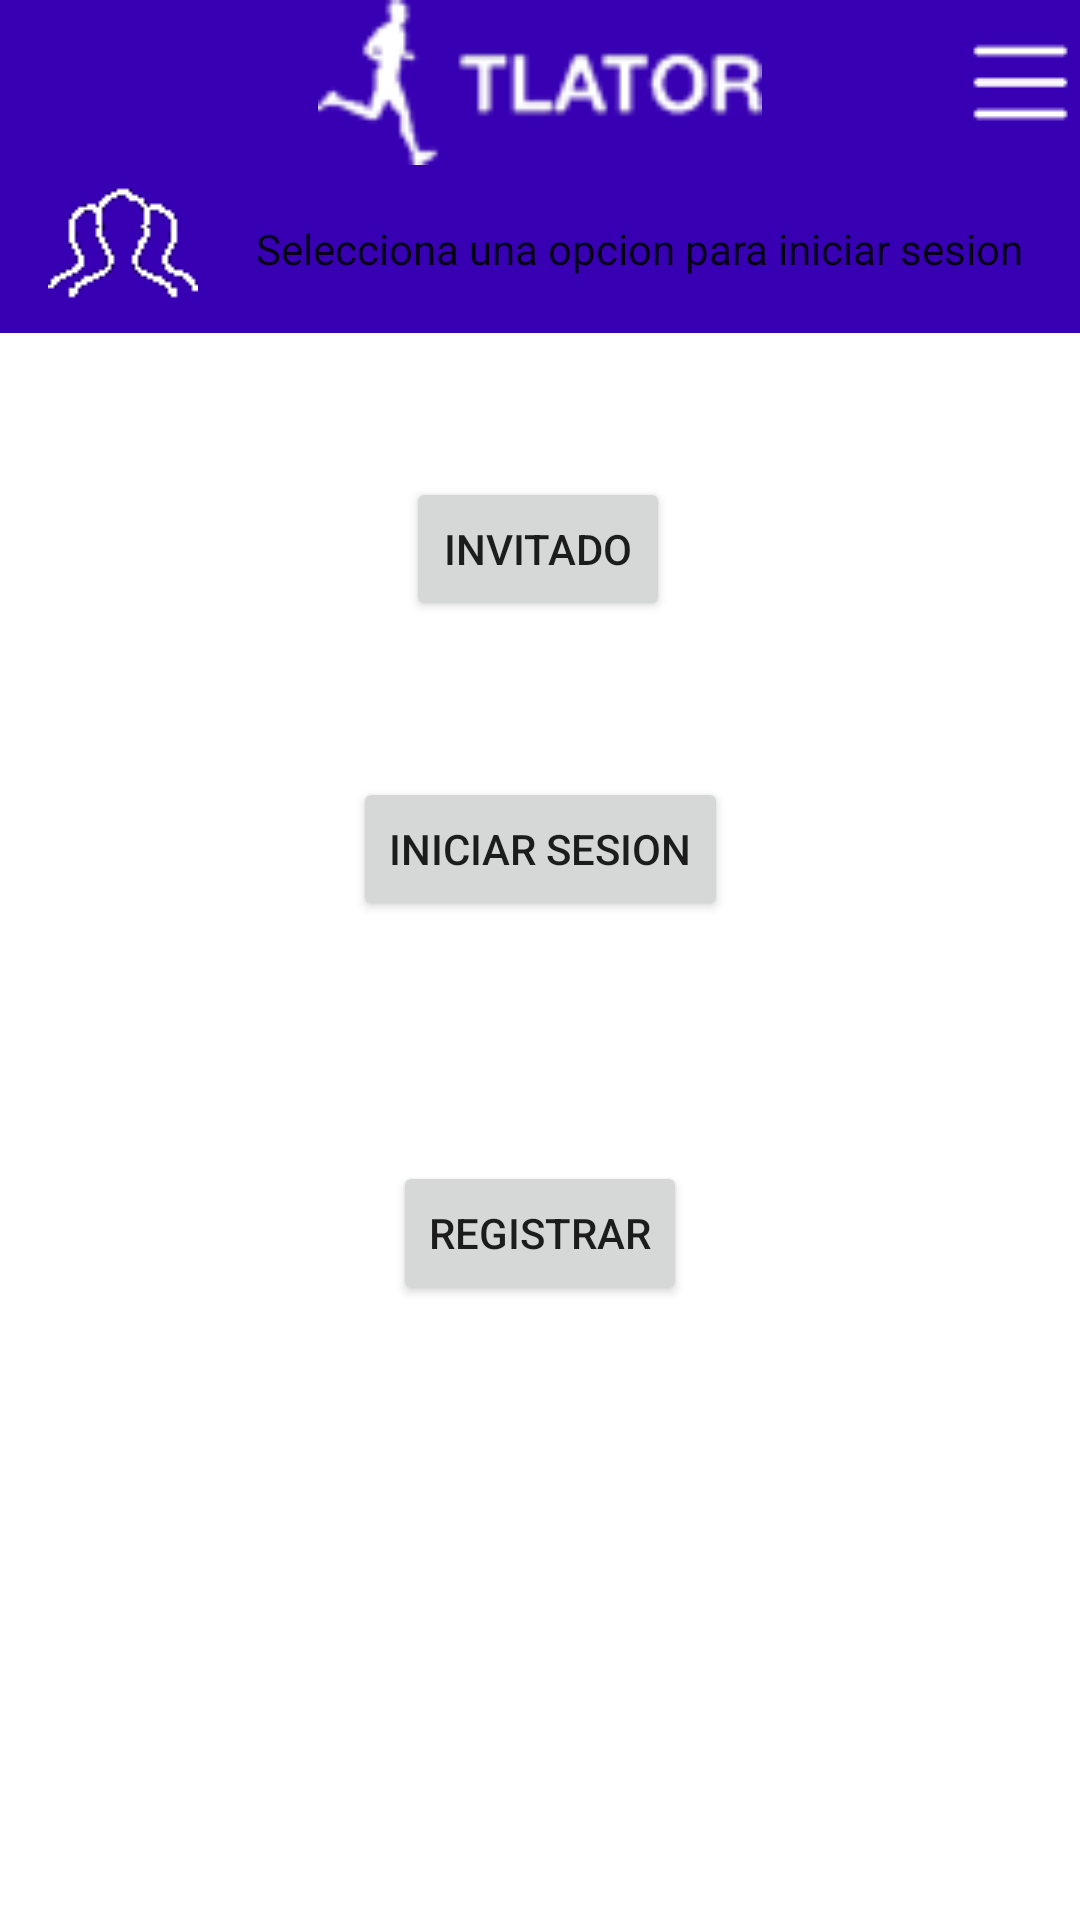

Locate icon controls on the screen. Image size 1080 × 1920, boxes as (x1, y1, x2, y2).
menu: (973, 44, 1068, 121)
users: (48, 188, 198, 298)
